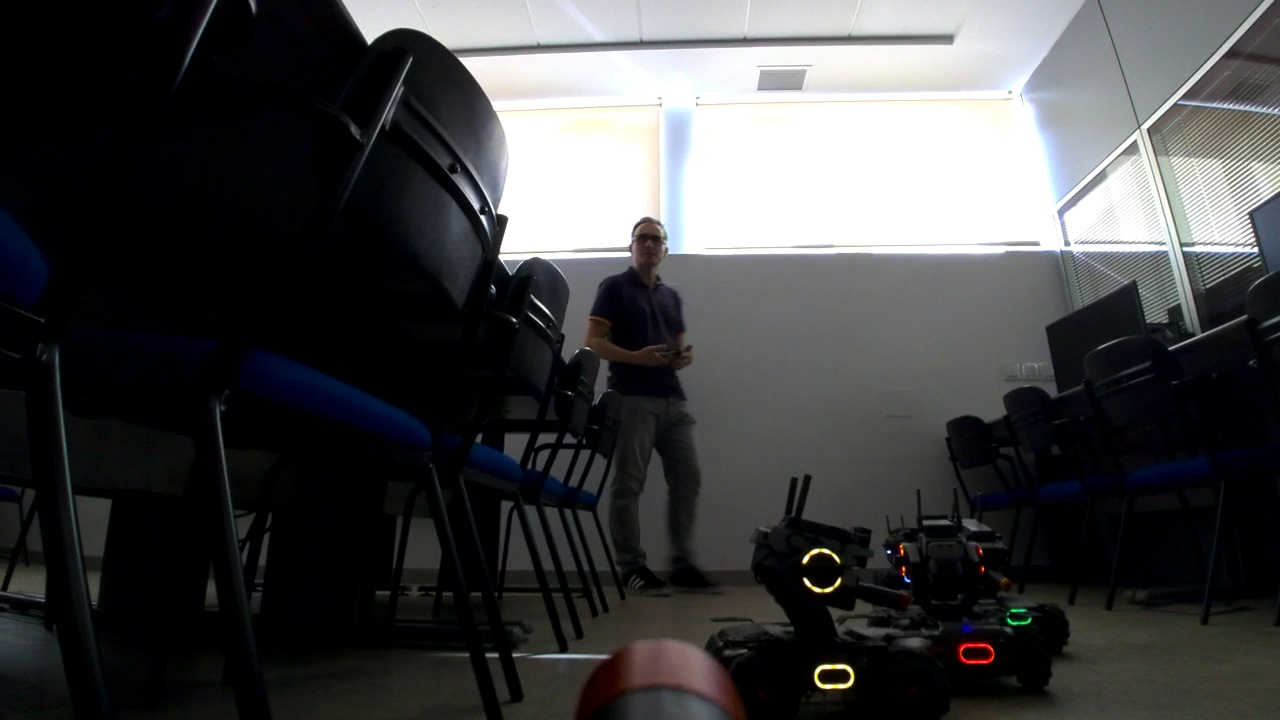robot: (694, 473, 948, 720), (865, 487, 1052, 692), (918, 484, 1069, 653), (863, 509, 971, 628)
